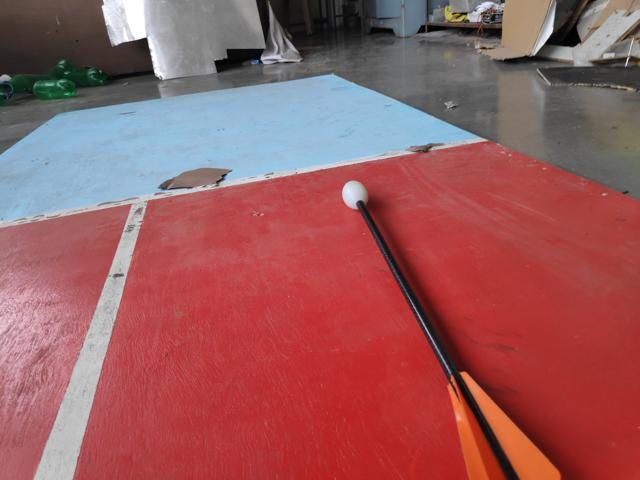Head: (340, 176, 371, 215)
Tail: (442, 364, 566, 480)
